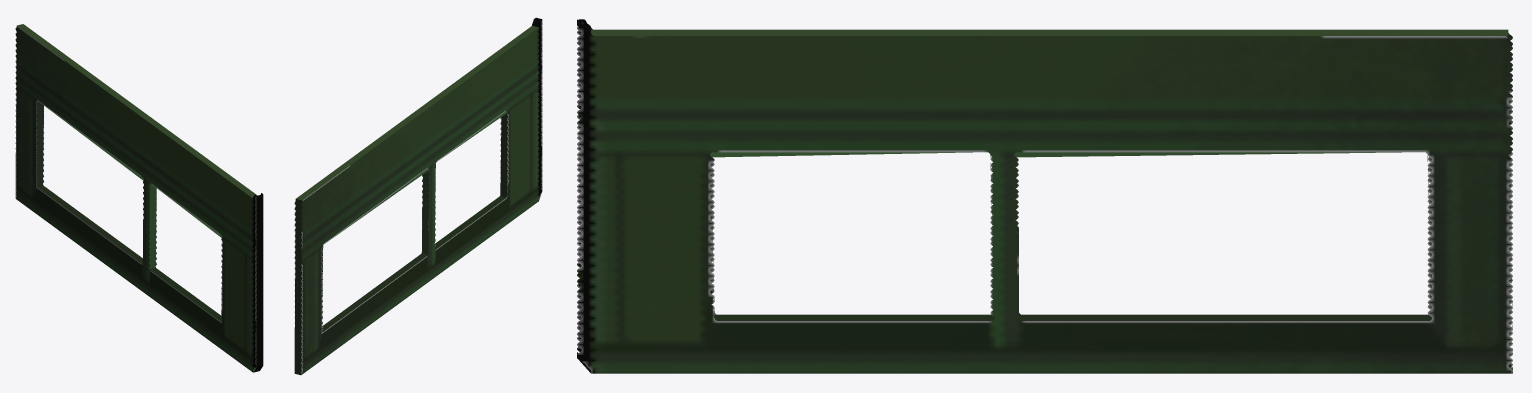
The model's file is pz_native_location_shop_greenes_01_74_frame.obj.
The picture shows the model from 3 angles, left to right: view 1: azimuth 30°, elevation 25°; view 2: azimuth 150°, elevation 25°; view 3: azimuth 270°, elevation 25°; orthographic projection. The views are drawn at different scales.
Parts seen in each view (by area): view 1: pz_native_location_shop_greenes_01_74_frame; view 2: pz_native_location_shop_greenes_01_74_frame; view 3: pz_native_location_shop_greenes_01_74_frame.
Boxes of the visible parts, <box> form: pz_native_location_shop_greenes_01_74_frame: <box>15,24,263,372</box>; pz_native_location_shop_greenes_01_74_frame: <box>294,17,542,375</box>; pz_native_location_shop_greenes_01_74_frame: <box>577,19,1512,373</box>.
Size of the model in its own units: 0.04 by 1.06 by 2.54.
Materials: 1 (1 with a texture image).
